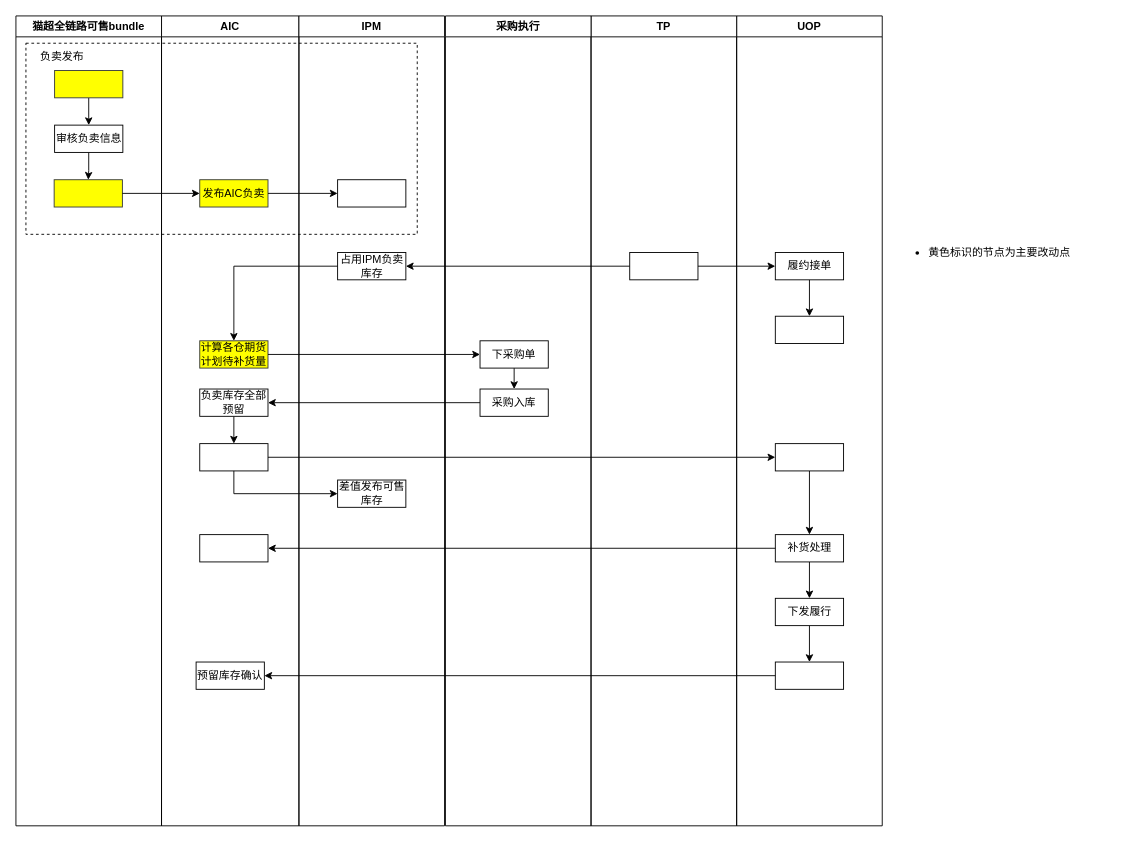
Some shapes in this 1125 by 842 pixel diagram are drawn without their labels. The centre of each missing label's shape, as x and y in pixels:
"交易下单" belongs at point 663,266.
"出库确认" belongs at point 809,675.
"占用预留库存" belongs at point 233,548.
"发布IPM负卖" belongs at point 371,193.
"发布负卖" belongs at point 87,193.
"填写负卖信息" belongs at point 88,84.
"平衡预留量" belongs at point 233,457.
"接收AIC预留变动的消息" belongs at point 809,457.
"缺货hold单" belongs at point 809,329.
